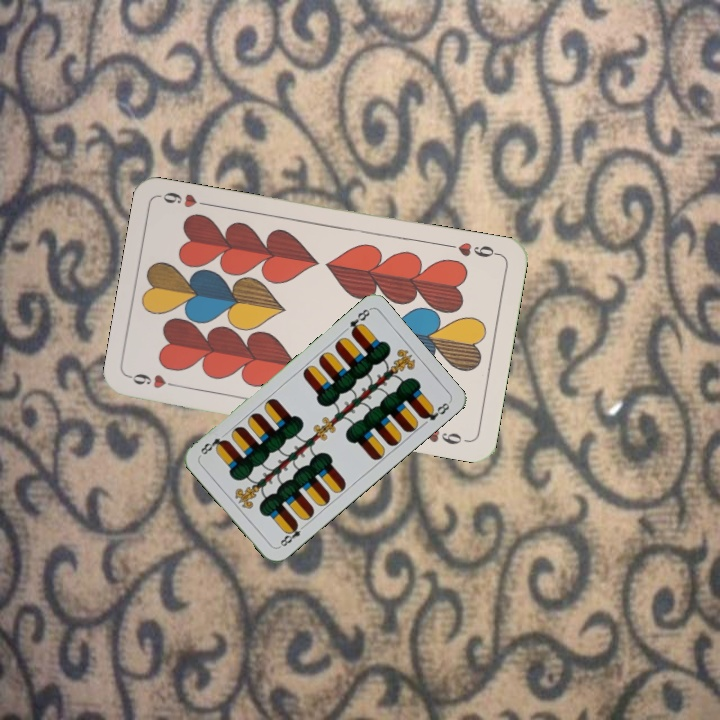E8: (274, 519, 309, 550), (345, 305, 373, 338)
H9: (127, 369, 186, 391), (444, 238, 502, 260)
